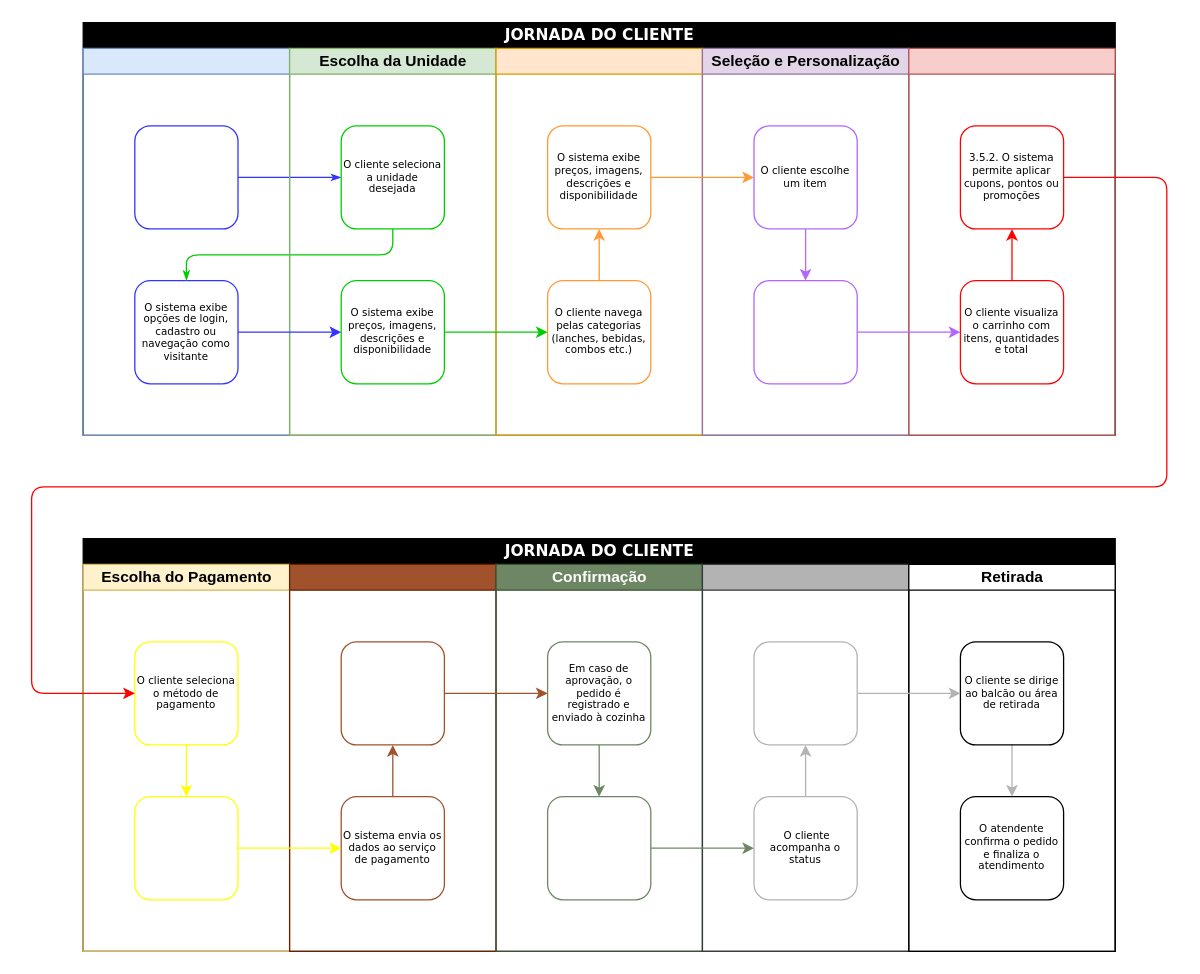
Image size: 1200x974. Some labels were removed from this diagram. The shapes that lost their labels are listed below. From the top down, each one's box as (x1, y1, x2, y2) in pixels, then its label:
(134, 124, 238, 229): O cliente acessa o App, Totem ou Web
(82, 47, 290, 435): Acesso ao Sistema
(495, 47, 702, 435): Visualização do Cardápio
(908, 47, 1115, 435): Resumo do Pedido
(753, 279, 857, 384): O sistema permite personalizações (adicionais, remoções, tamanhos)
(340, 640, 444, 745): O serviço externo retorna o status (aprovado, recusado, pendente)
(753, 640, 857, 745): Recebido Em preparo Pronto Finalizado
(288, 563, 496, 951): Processamento Externo
(701, 563, 909, 951): Acompanhamento
(134, 795, 238, 900): O sistema exibe o valor final e solicita confirmação
(546, 795, 651, 900): O cliente recebe feedback visual imediato
